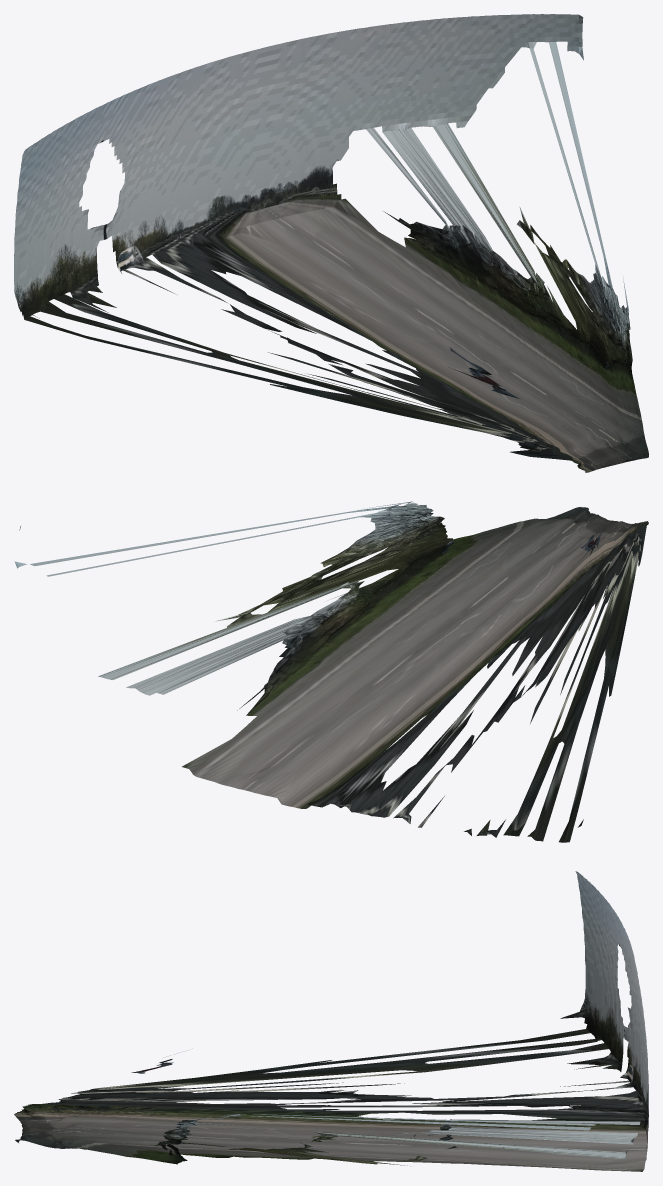
3 views of the same model, one above another, from view 1: azimuth 30°, elevation 25°; view 2: azimuth 150°, elevation 25°; view 3: azimuth 270°, elevation 25° (orthographic). The views are drawn at different scales.
Visible parts, largest first — view 1: defaultobject; view 2: defaultobject; view 3: defaultobject.
Part boxes in pixels (x1=…): defaultobject: x1=14, y1=14, x2=648, y2=472; defaultobject: x1=14, y1=501, x2=648, y2=842; defaultobject: x1=14, y1=871, x2=648, y2=1171.
Bounding box in the file's own units: 40.97 × 13.33 × 44.75.
Materials: 1 (1 with a texture image).
